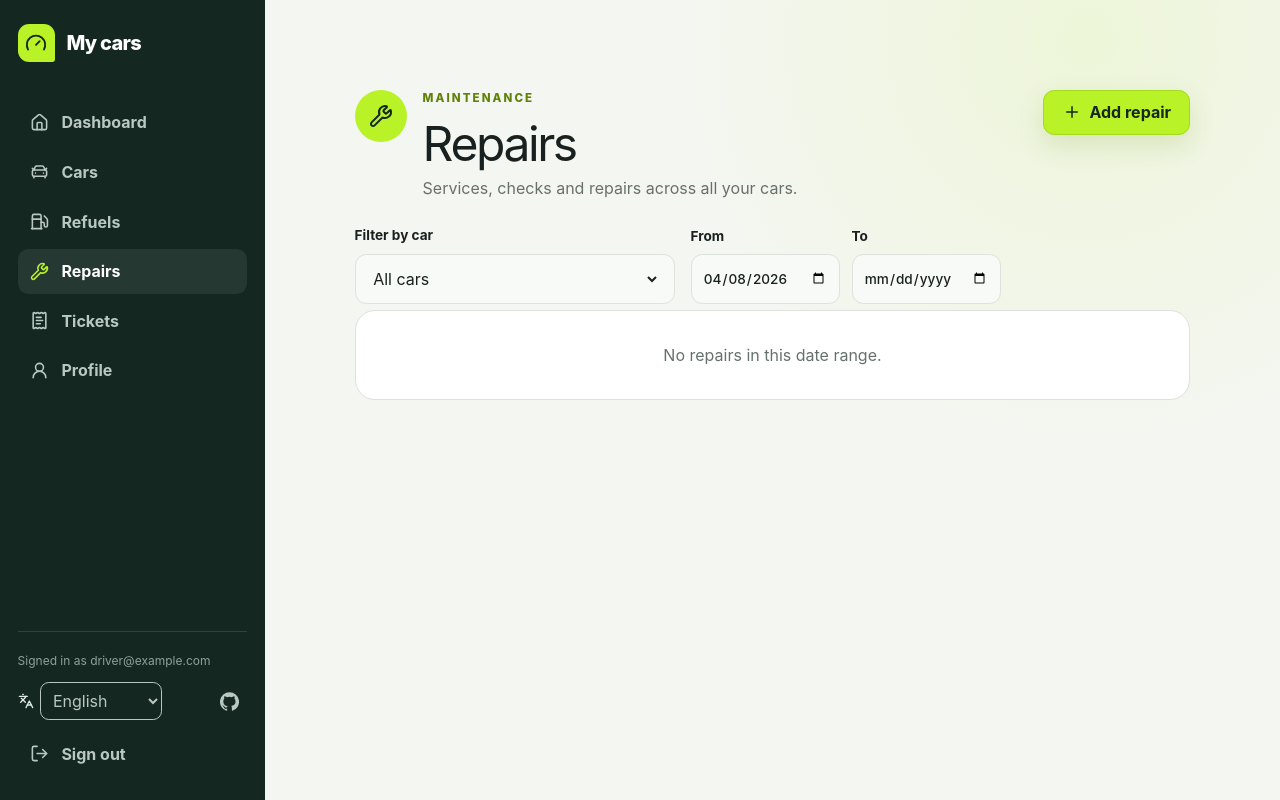
Test: repairs list › says when the range holds no repairs, in both languages
Check: the text "No repairs in this date range." is shown, box [663,343,882,367]
Step 1. Select "Deutsch" in the dropdown named "Language" → (101, 701), box [40,682,162,720]
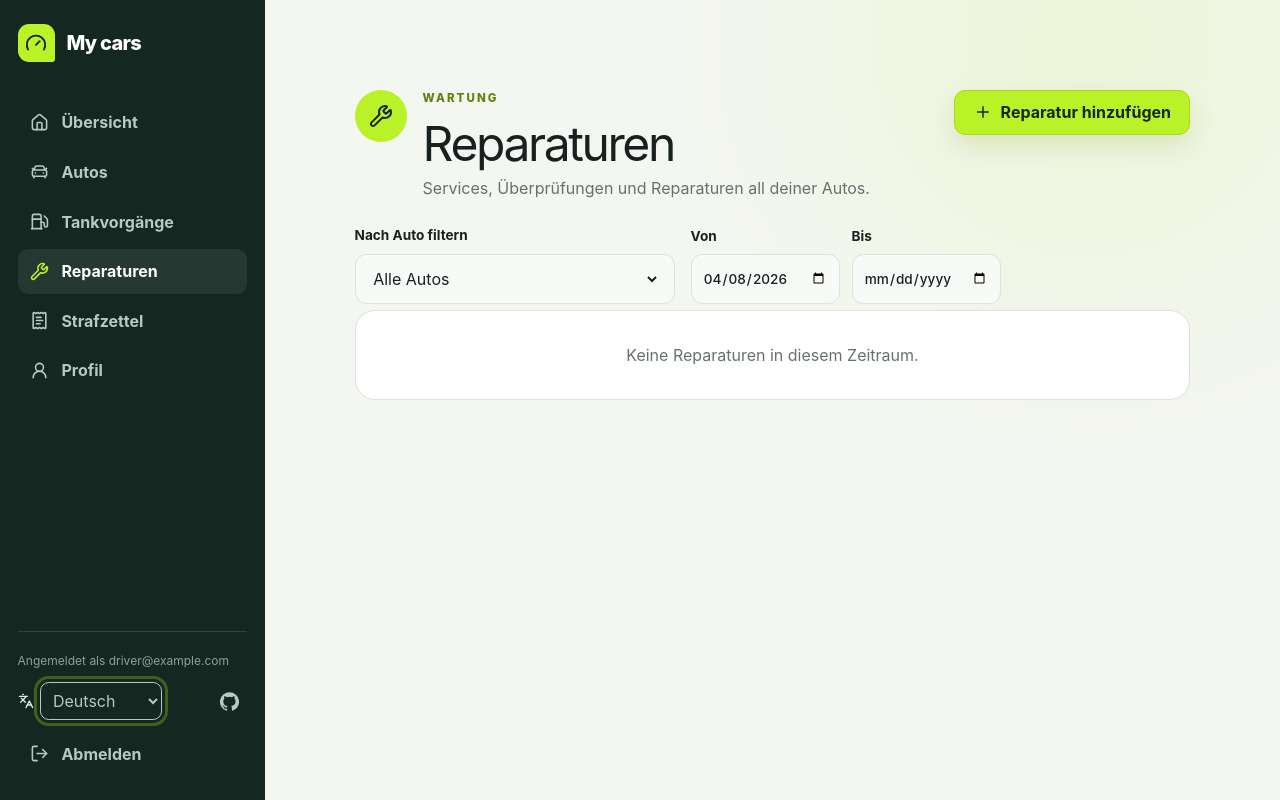
Check: the dropdown labelled "Nach Auto filtern" is shown, box [369,255,660,303]
Check: the text "Keine Reparaturen in diesem Zeitraum." is shown, box [626,343,919,367]
